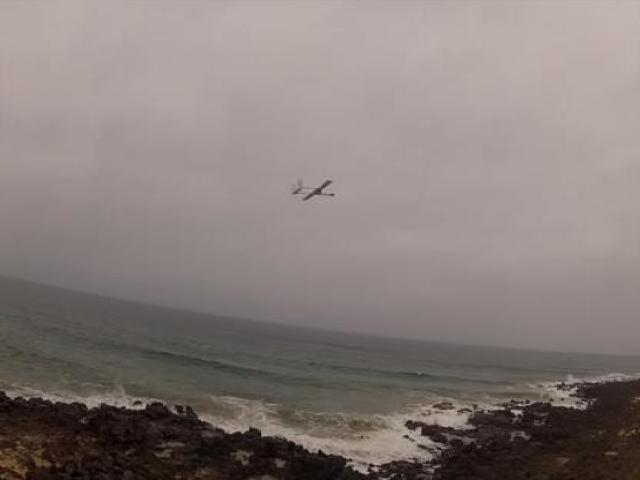uav: (283, 169, 342, 208)
